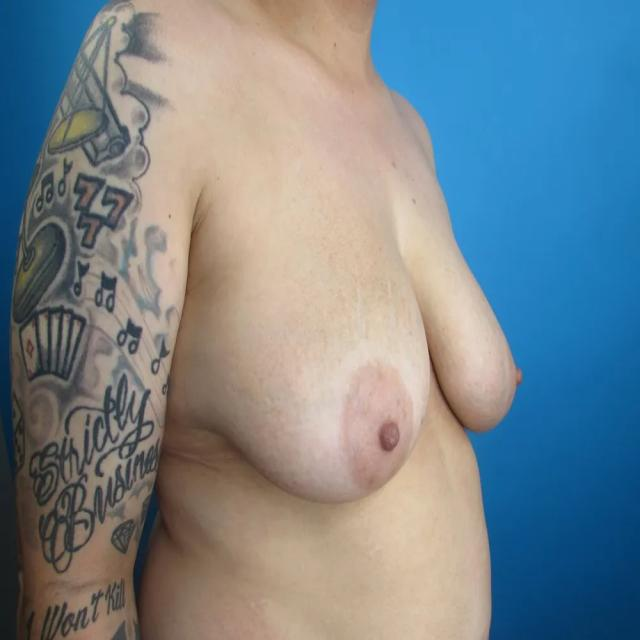Seno ileso: (178, 198, 438, 523), (442, 199, 529, 451)
